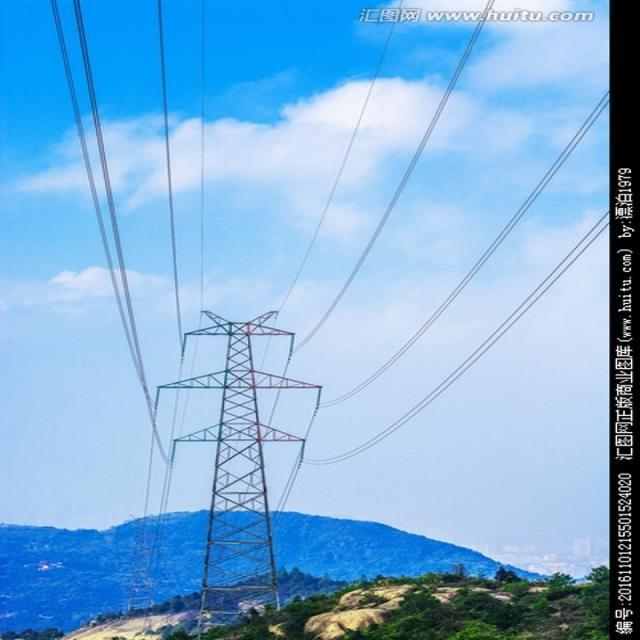non-critical vegetation: (148, 307, 311, 618)
